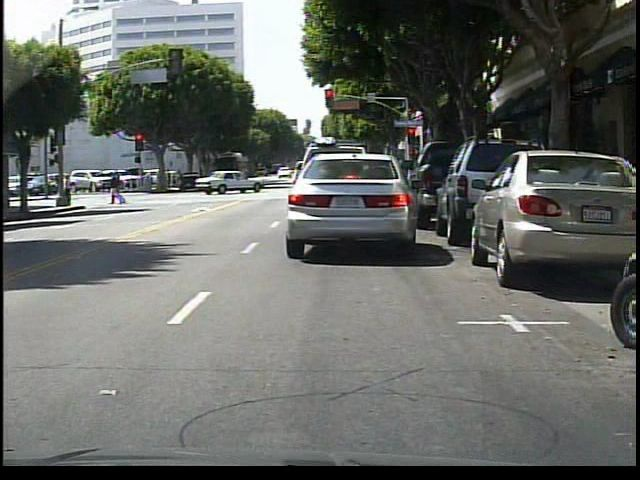person: (109, 173, 128, 207), (66, 174, 75, 207)
